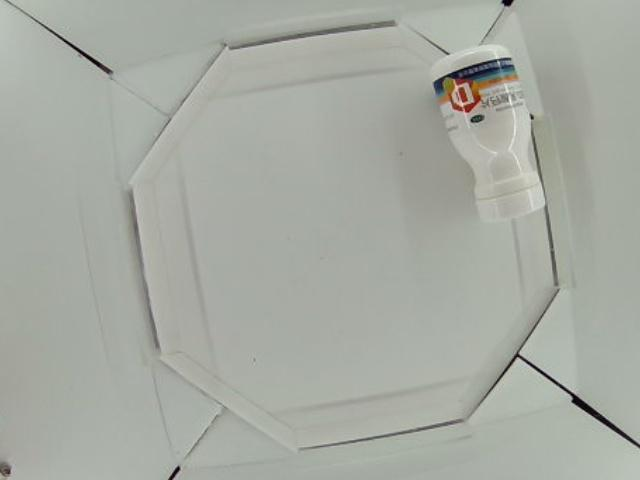Bottle: (431, 45, 547, 216)
